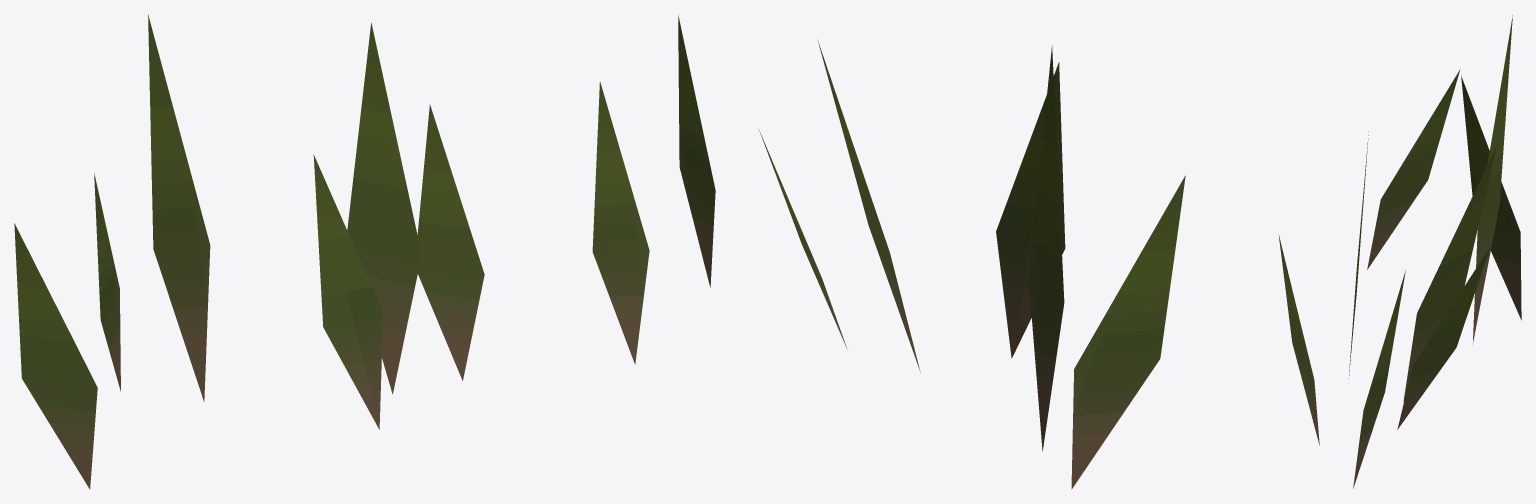
The model's file is plants_me_dlc1_main_grass153.gltf.
3 views of the same model, side by side, from view 1: azimuth 30°, elevation 25°; view 2: azimuth 150°, elevation 25°; view 3: azimuth 270°, elevation 25° (orthographic). The views are drawn at different scales.
Parts seen in each view (by area): view 1: um_plants_me_dlc1_main_grass153_model_plants_me_dlc1_main_gr; view 2: um_plants_me_dlc1_main_grass153_model_plants_me_dlc1_main_gr; view 3: um_plants_me_dlc1_main_grass153_model_plants_me_dlc1_main_gr.
Part boxes in pixels (box(x1,y1,x2,y2)): um_plants_me_dlc1_main_grass153_model_plants_me_dlc1_main_gr: box(14, 14, 649, 489); um_plants_me_dlc1_main_grass153_model_plants_me_dlc1_main_gr: box(678, 14, 1319, 489); um_plants_me_dlc1_main_grass153_model_plants_me_dlc1_main_gr: box(1348, 15, 1521, 488).
Bounding box in the file's own units: 0.5503 × 0.3383 × 0.1672.
1 material, 1 textured.
